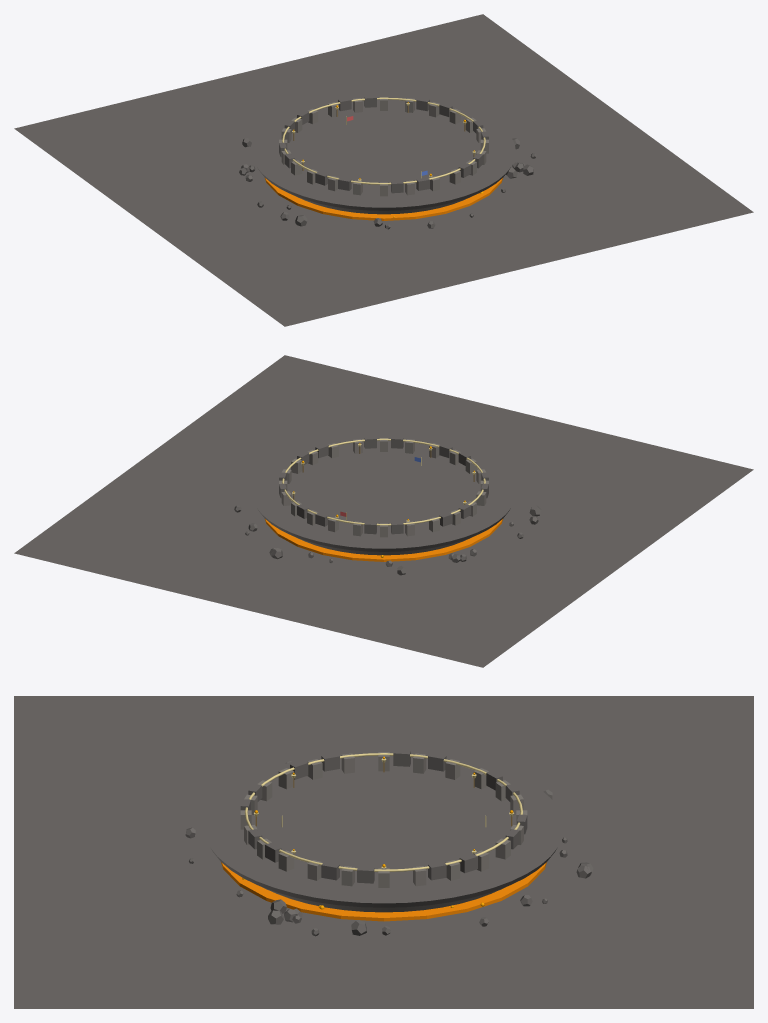
Rendered from arena.glb.
The picture shows the model from 3 angles, top to bottom: view 1: azimuth 30°, elevation 25°; view 2: azimuth 150°, elevation 25°; view 3: azimuth 270°, elevation 25°; orthographic projection. The views are drawn at different scales.
Visible parts, largest first — view 1: ground_plane, stand_tier_2, lava_moat, wall_gold_rim; view 2: ground_plane, stand_tier_2, lava_moat, wall_gold_rim; view 3: ground_plane, stand_tier_2, lava_moat, wall_gold_rim, stand_tier_1.
Boxes of the visible parts, x1,y1,x2,y2 form: ground_plane: [14, 14, 753, 326]; stand_tier_2: [252, 96, 515, 210]; lava_moat: [265, 178, 502, 220]; wall_gold_rim: [282, 97, 485, 184]; ground_plane: [14, 355, 753, 667]; stand_tier_2: [252, 437, 515, 551]; lava_moat: [265, 519, 502, 561]; wall_gold_rim: [282, 438, 485, 525]; ground_plane: [14, 696, 753, 1008]; stand_tier_2: [203, 751, 564, 907]; lava_moat: [221, 862, 546, 921]; wall_gold_rim: [244, 753, 523, 871]; stand_tier_1: [262, 887, 505, 910].
Size of the model in its own units: 80 by 5.4 by 80.
